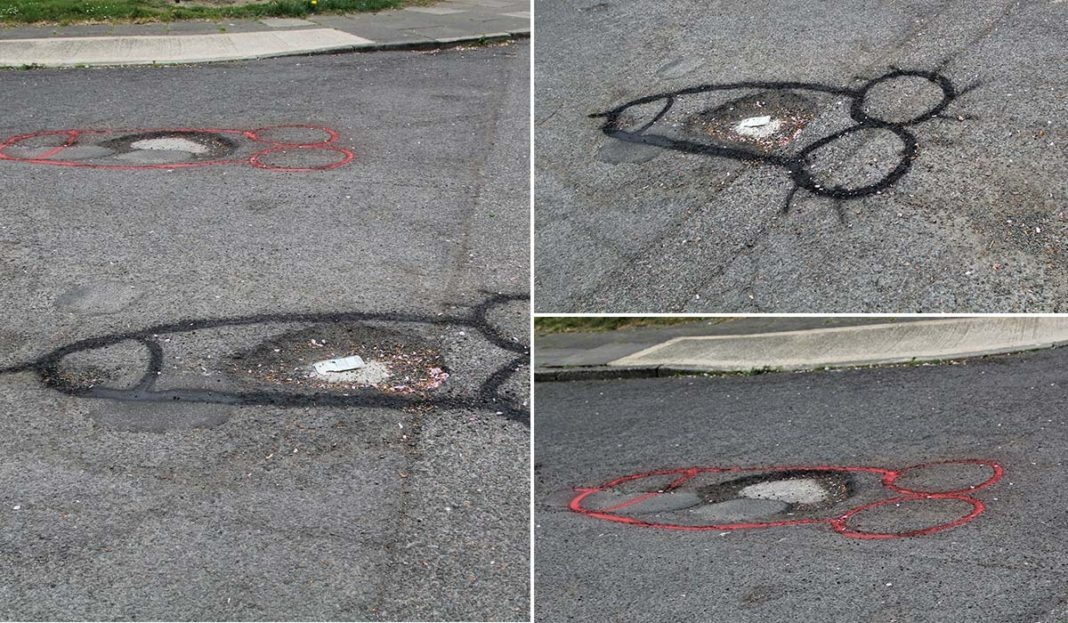pothole: (683, 436, 977, 565), (248, 312, 464, 404), (684, 66, 819, 162)
